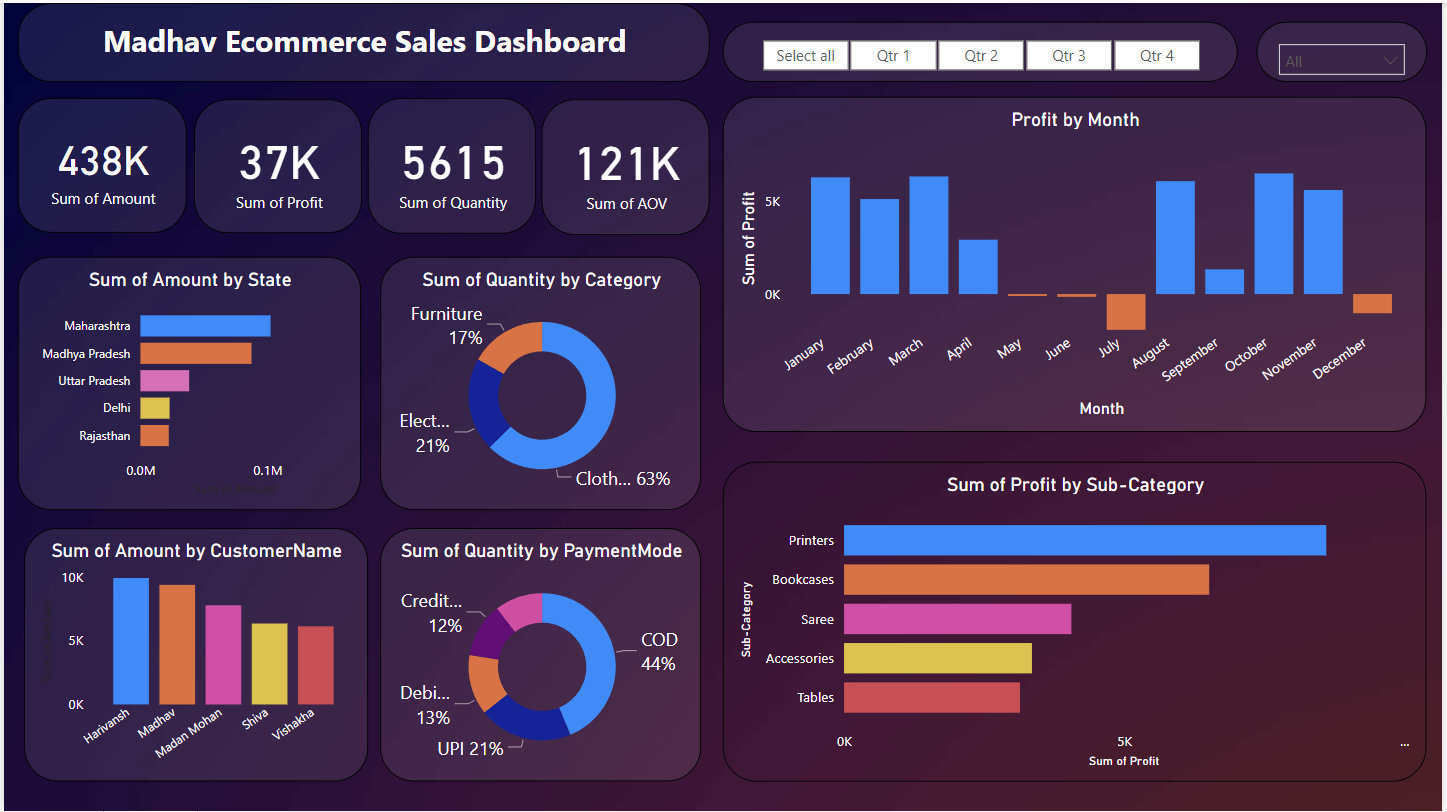

The page's visual inventory and layout, read from the dashboard file:
{"tool":"powerbi","page":{"name":"Page 1","canvas":[1280,720],"ordinal":0},"visuals":[{"type":"textbox","box":[12,0,616,70],"z":0},{"type":"columnChart","title":"Profit by Month","fields":{"Category":["Orders.Order Date.Variation.Date Hierarchy.Month"],"Y":["Sum(Details.Profit)"]},"box":[640,83.3,626.7,298.3],"z":1000},{"type":"barChart","fields":{"Category":["Details.Sub-Category"],"Y":["Sum(Details.Profit)"]},"box":[640,408.3,626.7,285],"z":2000},{"type":"donutChart","fields":{"Category":["Details.Category"],"Y":["Sum(Details.Quantity)"]},"box":[335.3,225.5,285.8,225.5],"z":3000},{"type":"donutChart","fields":{"Y":["Sum(Details.Quantity)"],"Category":["Details.PaymentMode"]},"box":[335.3,467.9,285.8,225.5],"z":4000},{"type":"card","fields":{"Values":["Sum(Details.Amount)"]},"box":[12.1,84.4,150,120],"z":5000},{"type":"card","fields":{"Values":["Sum(Details.Profit)"]},"box":[169,85.6,149.5,119.4],"z":6000},{"type":"card","fields":{"Values":["Sum(Details.AOV)"]},"box":[478.8,85.6,149.5,120.6],"z":7000},{"type":"card","fields":{"Values":["Sum(Details.Quantity)"]},"box":[324,84.4,149.5,120.6],"z":8000},{"type":"barChart","fields":{"Category":["Orders.State"],"Y":["Sum(Details.Amount)"]},"box":[12.3,225.6,305.6,225.6],"z":9000},{"type":"columnChart","fields":{"Category":["Orders.CustomerName"],"Y":["Sum(Details.Amount)"]},"box":[12,468,306,226],"z":10000},{"type":"slicer","fields":{"Values":["Orders.Order Date.Variation.Date Hierarchy.Quarter"]},"box":[640,16.7,458.3,53.3],"z":11000},{"type":"slicer","fields":{"Values":["Orders.City"]},"box":[1115,16.7,151.7,53.3],"z":12000}]}

Visuals, with their boxes in screenshot pixels (x1, y1, x2, y2), scaled from the page's 1280x720 canvas onto the 1447x812 screenshot:
textbox: region(14, 0, 710, 79)
"Profit by Month" columnChart: region(724, 94, 1432, 430)
barChart - Details.Sub-Category x Sum(Details.Profit): region(724, 460, 1432, 782)
donutChart - Details.Category x Sum(Details.Quantity): region(379, 254, 702, 509)
donutChart - Sum(Details.Quantity) x Details.PaymentMode: region(379, 528, 702, 782)
card - Sum(Details.Amount): region(14, 95, 183, 231)
card - Sum(Details.Profit): region(191, 97, 360, 231)
card - Sum(Details.AOV): region(541, 97, 710, 233)
card - Sum(Details.Quantity): region(366, 95, 535, 231)
barChart - Orders.State x Sum(Details.Amount): region(14, 254, 359, 509)
columnChart - Orders.CustomerName x Sum(Details.Amount): region(14, 528, 359, 783)
slicer - Orders.Order Date.Variation.Date Hierarchy.Quarter: region(724, 19, 1242, 79)
slicer - Orders.City: region(1260, 19, 1432, 79)
